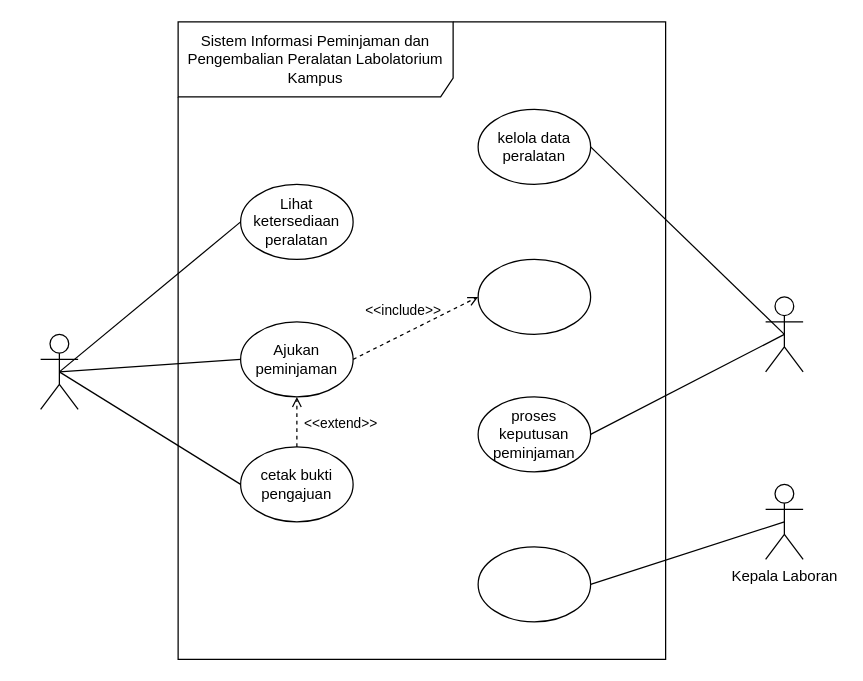
Image size: 863x681. Some labels were removed from this diagram. Each missing label, with the centre of its shape:
"lihat lapor peminjaman" belongs at (534,584).
"Mahasiswa" belongs at (58,371).
"periksa ketersediaan" belongs at (534,296).
"Petugas Laboran" belongs at (783,334).
